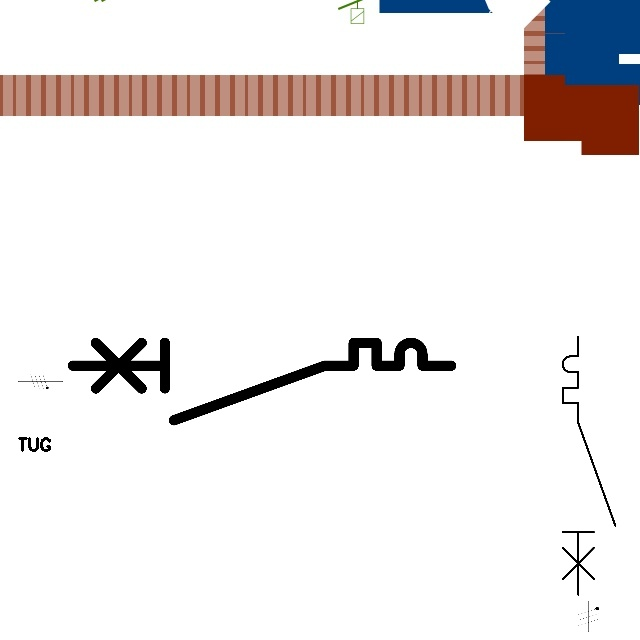interruptor_termomagnetico: (63, 333, 461, 430), (556, 330, 622, 602)
